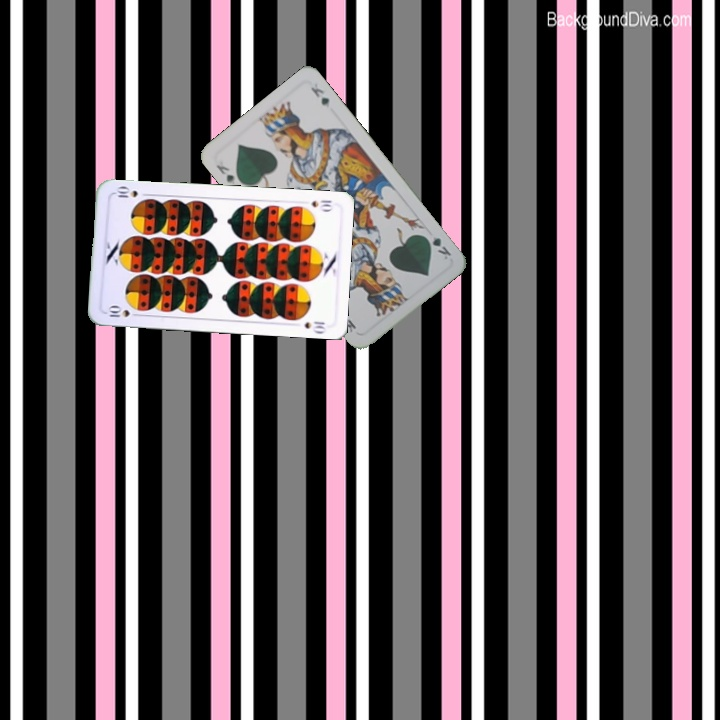GK: (420, 231, 454, 262), (212, 160, 238, 187)
S10: (104, 302, 143, 320), (308, 196, 335, 213)
